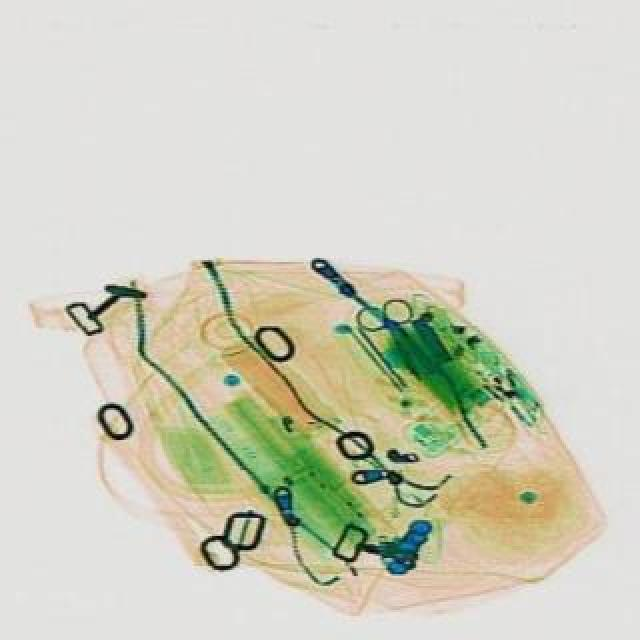pliers: (350, 290, 438, 390)
